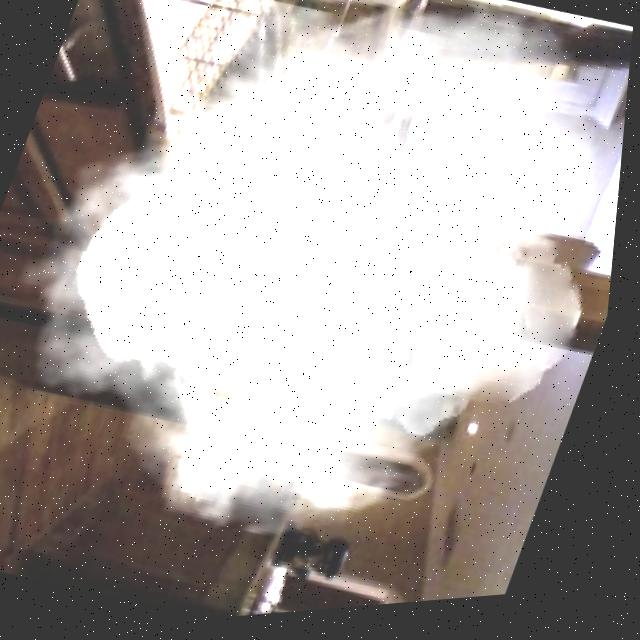Smoke: (97, 29, 578, 499)
